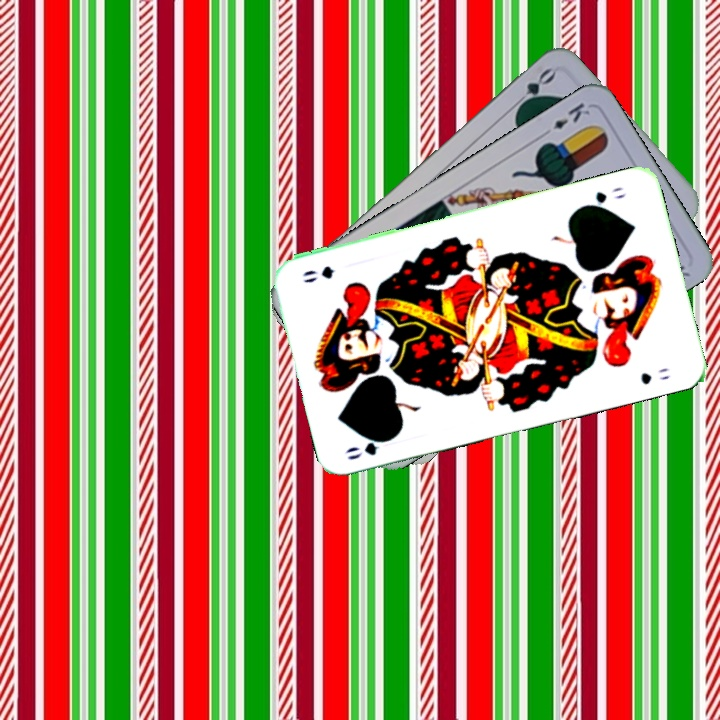EK: (537, 98, 593, 140)
GO: (508, 64, 558, 114), (341, 432, 398, 463), (577, 182, 629, 211)
